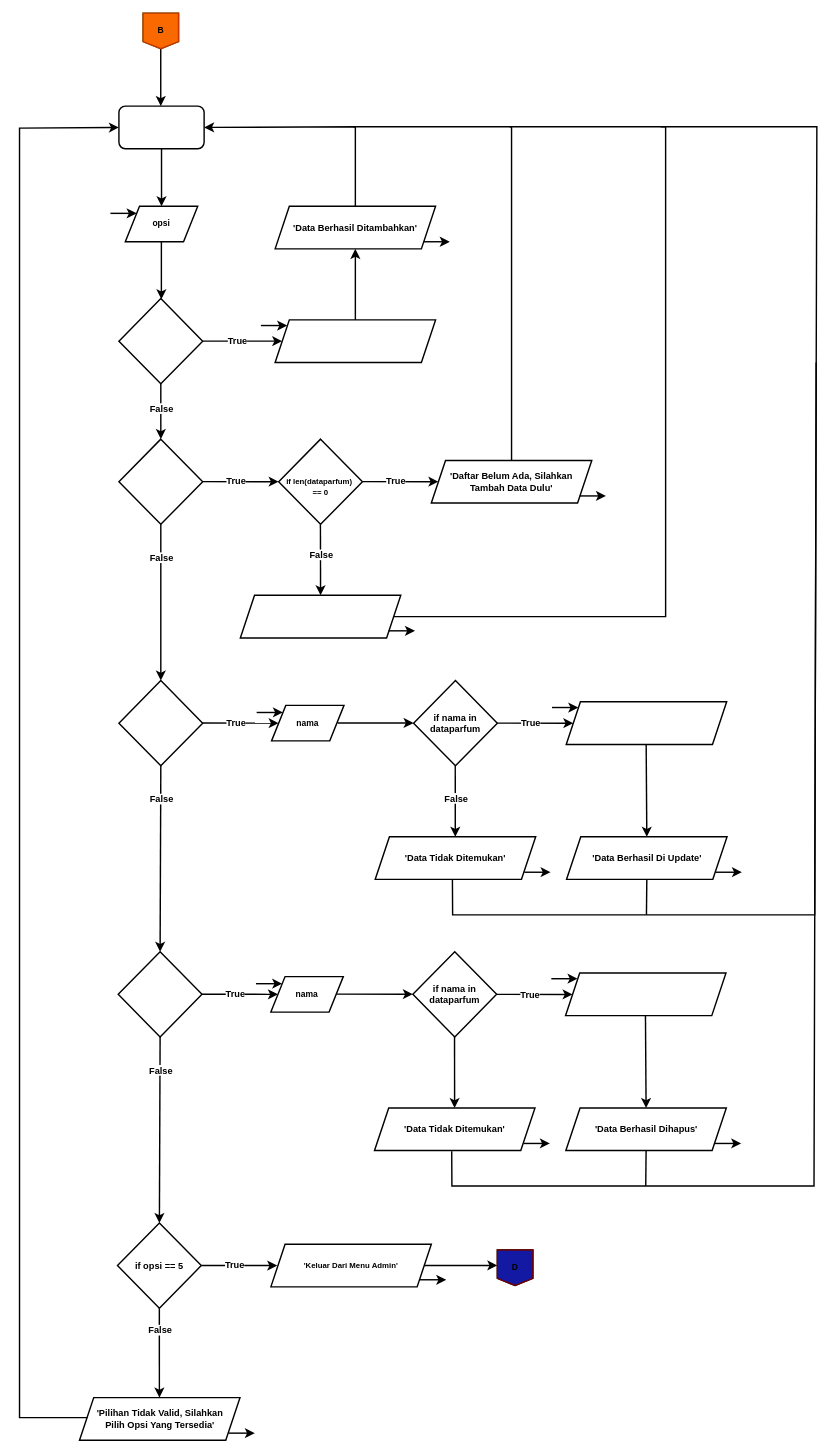
Image size: 830x1453. Some labels were removed from this diagram. Here are the shapes that lost their labels. From the top down, the centre of each, then its label:
At (161,127): "Menu Admin Toko Parfum X".
At (160,340): "if opsi == 1".
At (355,341): "Nama Parfum, Aroma Parfum, Harga Parfum".
At (160,481): "if opsi == 2".
At (320,616): "'Daftar Parfum '".
At (160,722): "if opsi == 3".
At (646,723): "Nama Baru, Aroma Baru, Harga Baru".
At (159,994): "if opsi == 4".
At (645,994): "Nama Parfum Yang Ingin Di Hapus".
